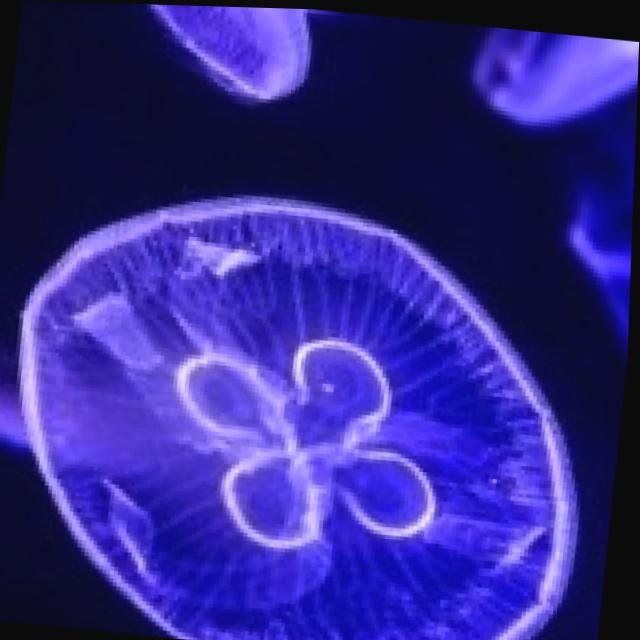Moon-jellyfish: (0, 167, 620, 640)
